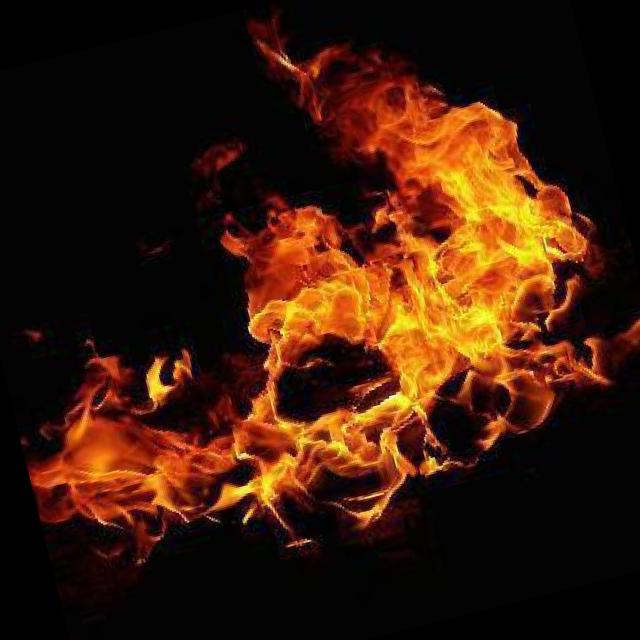Fire: (0, 8, 640, 595)
